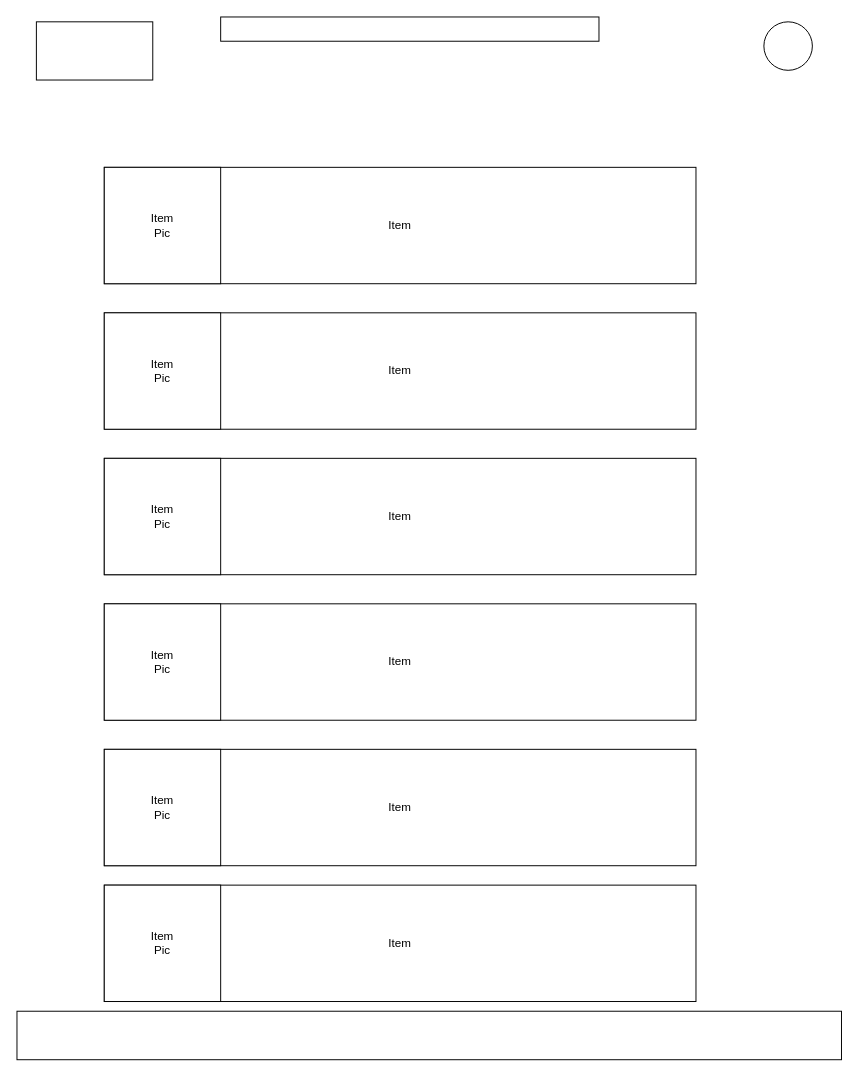
The diagram is 858 pixels wide and 1077 high, and some of its shapes have lost their labels. The shapes that lost their labels are listed below. From the top down, each one's centre as x and y in pixels, then its label:
point (409, 28): Search Bar
point (787, 45): Profile Pic
point (94, 50): Jungle
point (428, 1035): Footer
